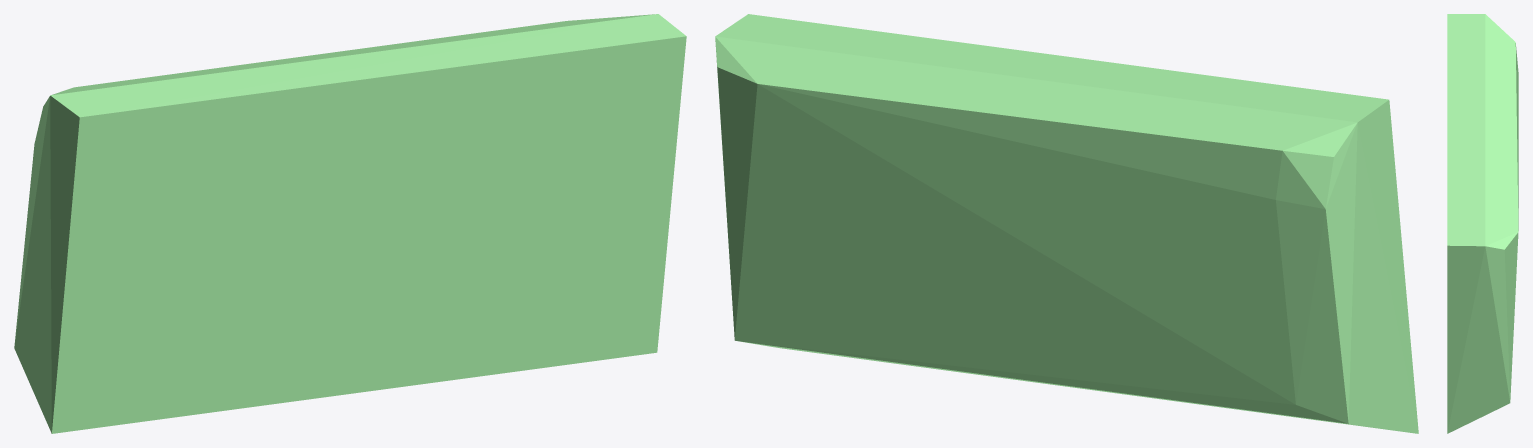
The model's file is UMIRobot_robot_base_coll_10.dae.
3 renders of one model, left to right at view 1: azimuth 30°, elevation 25°; view 2: azimuth 150°, elevation 25°; view 3: azimuth 270°, elevation 25°, orthographic. The views are drawn at different scales.
Visible parts, largest first — view 1: node; view 2: node; view 3: node.
Part boxes in pixels (left/top/right/bottom): node: left=14, top=14, right=686, bottom=433; node: left=715, top=14, right=1418, bottom=433; node: left=1447, top=14, right=1518, bottom=433.
Size of the model in its own units: 0.0422 by 0.0238 by 0.0064.
